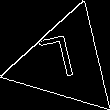L_S: (43, 34, 86, 90)
